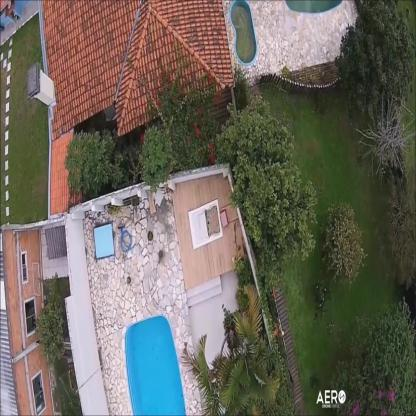agua: (232, 0, 258, 65)
